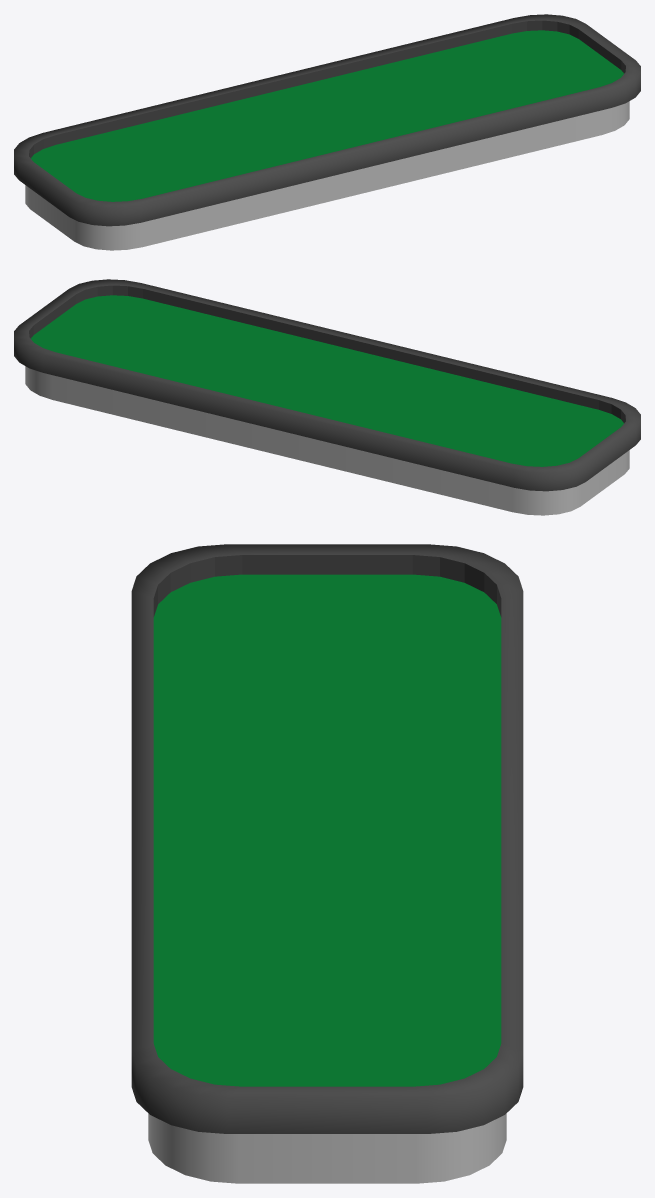
Rendered from Flowerbed-05.fbx.
The picture shows the model from 3 angles, top to bottom: view 1: azimuth 30°, elevation 25°; view 2: azimuth 150°, elevation 25°; view 3: azimuth 270°, elevation 25°; orthographic projection. The views are drawn at different scales.
Visible parts, largest first — view 1: Flowerbed-05; view 2: Flowerbed-05; view 3: Flowerbed-05.
Part boxes in pixels (left/top/right/bottom): Flowerbed-05: left=14, top=14, right=640, bottom=250; Flowerbed-05: left=14, top=279, right=640, bottom=515; Flowerbed-05: left=131, top=544, right=523, bottom=1183.
Size of the model in its own units: 5.82 by 0.4627 by 1.74.
